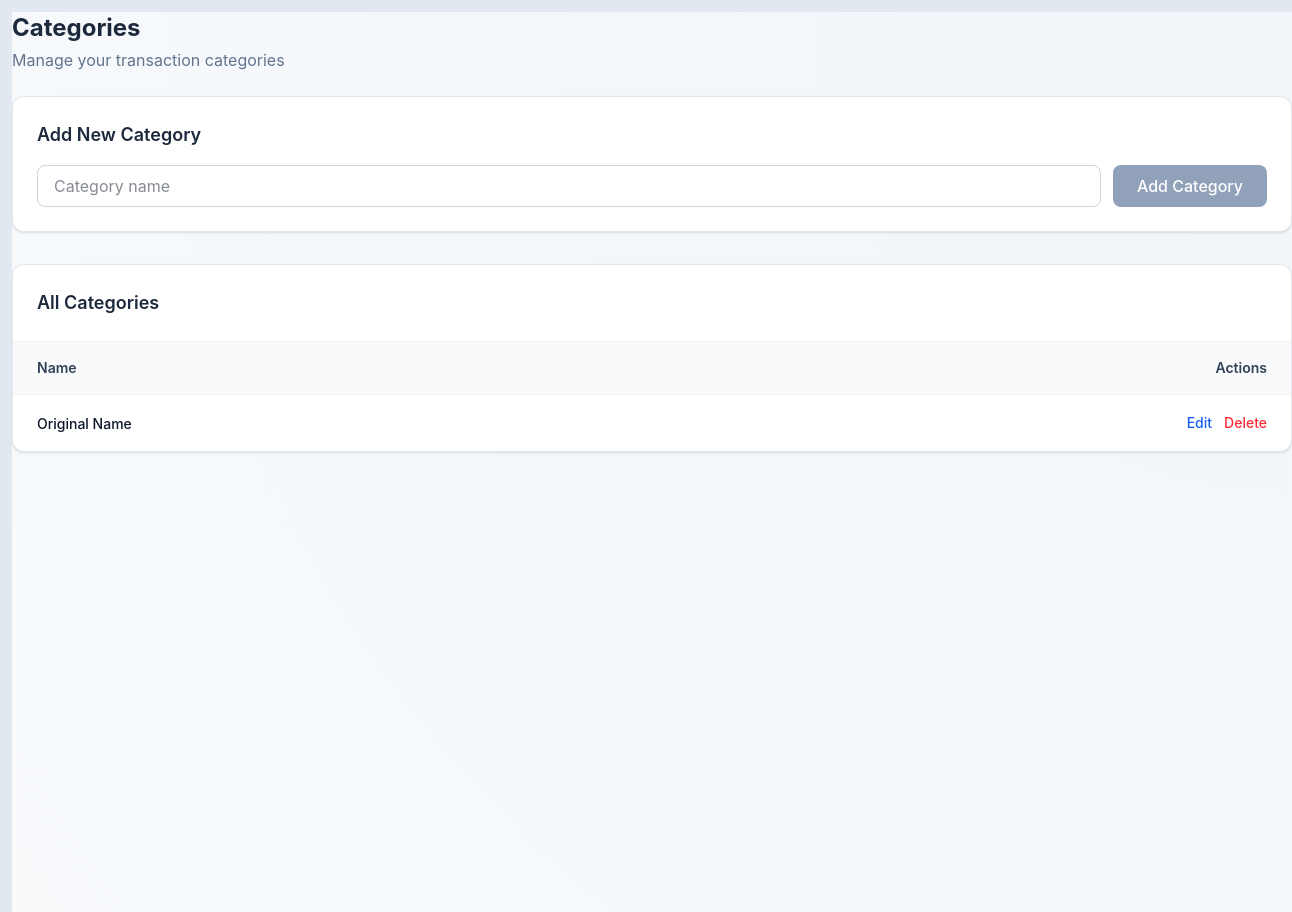
Test case: Categories Component › cancels editing when cancel is clicked
The image size is (1292, 912).
Expected: the text "Original Name" is shown, [37,415,132,432]
Click Edit
Step 1. Click the button "Edit" → (1199,423), box [1187,413,1212,433]
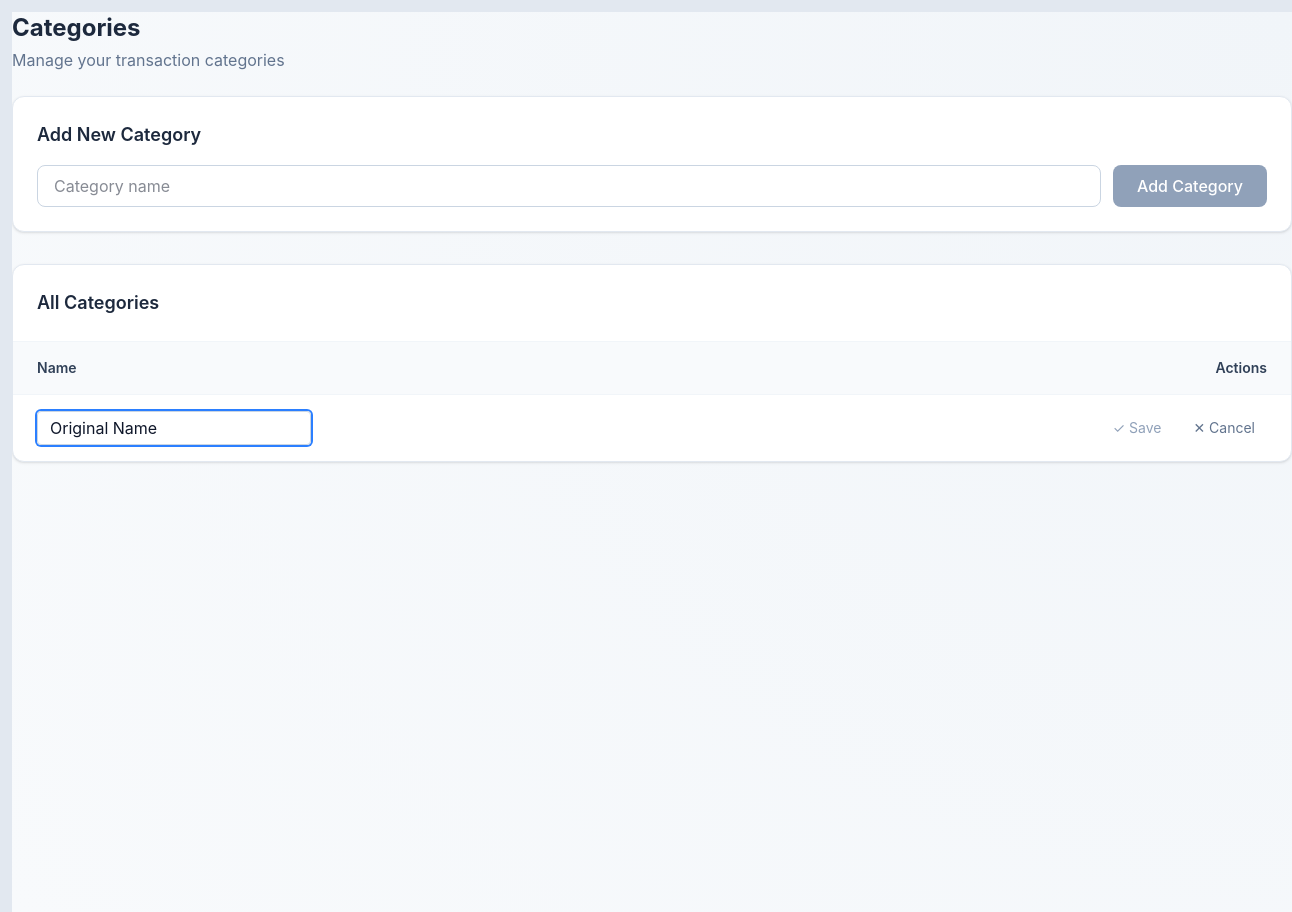
Change the value
Step 2. Replace the text in the field showing "Original Name" with "Changed" → (174,428), box [37,411,311,445]
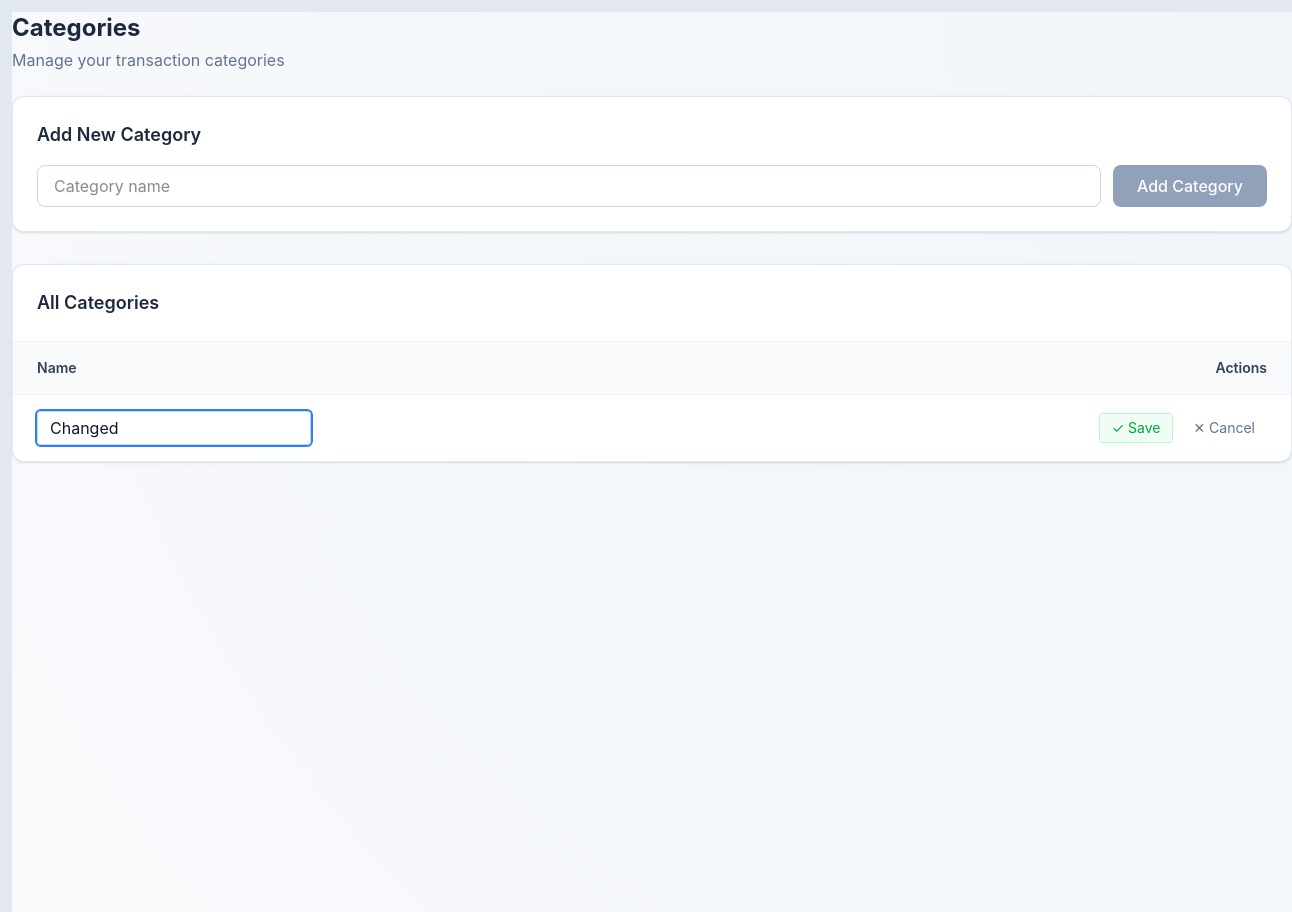
Click Cancel
Step 3. Click the button "✕ Cancel" → (1224,428), box [1181,413,1267,443]
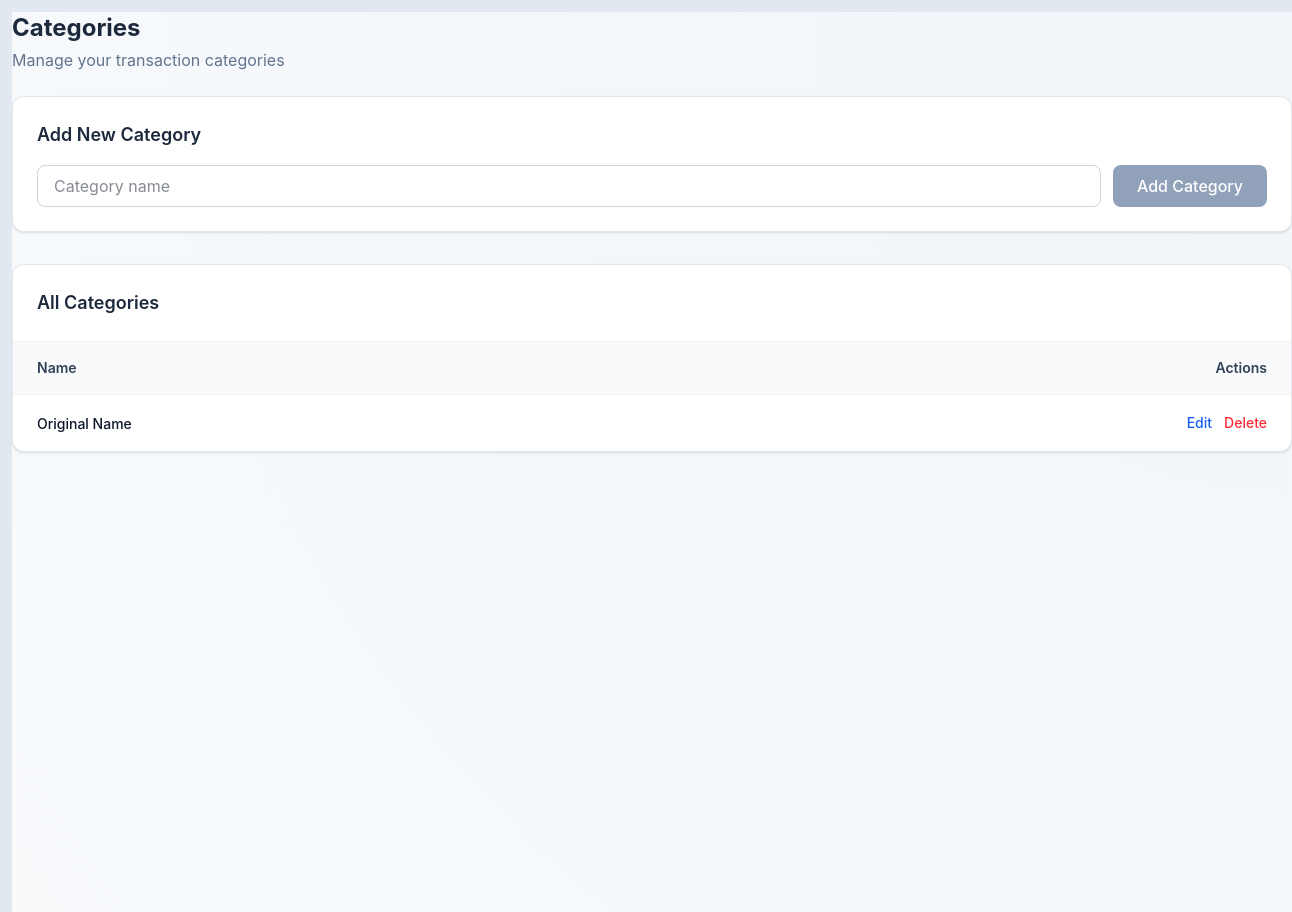
Expected: the text "Original Name" is shown, [37,415,132,432]
